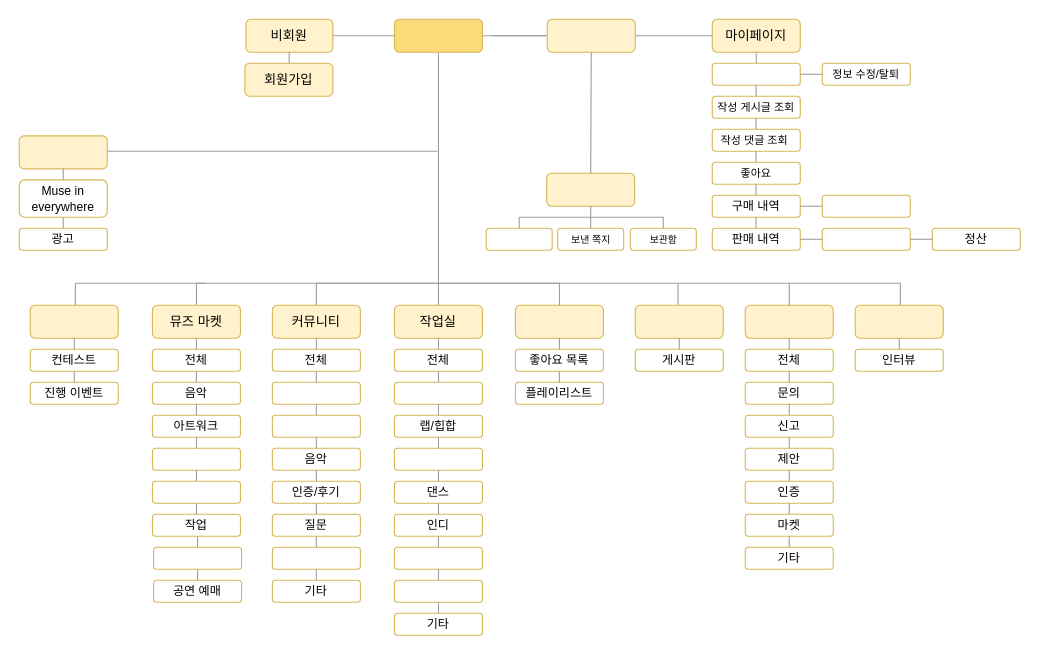
The diagram is 1040 pixels wide and 655 high, and some of its shapes have lost their labels. Each missing label, with the centre of its shape:
"pop" goes at (437,590).
"R&B/Soul" goes at (437,458).
"공지사항" goes at (678,321).
"구매 확정" goes at (865,205).
"라이브러리" goes at (558,321).
"레슨" goes at (195,491).
"로그인" goes at (590,35).
"록/메탈" goes at (437,557).
"메인페이지" goes at (437,35).
"받은 쪽지" goes at (518,238).
"발라드" goes at (437,392).
"사이드바" goes at (62,152).
"아티클" goes at (898,321).
"온라인 강의" goes at (195,458).
"운영참여" goes at (788,321).
"이벤트" goes at (73,321).
"인기글" goes at (315,392).
"일반" goes at (315,425).
"장소" goes at (197,557).
"쪽지함" goes at (590,189).
"판매 승인/취소" goes at (865,238).
"홍보" goes at (315,557).
"회원 정보" goes at (755,73).
